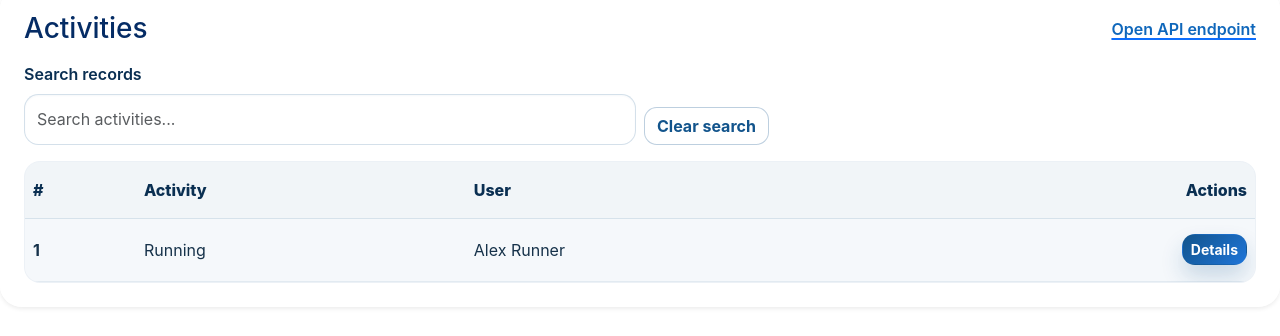
it: DataResourcePage › search only matches visible columns
Expected: the text "Running" is shown, [136,219,466,281]
Type "secret-match" into the search field labelled "Search records". click: (330, 119)
box: [24,94,636,145]
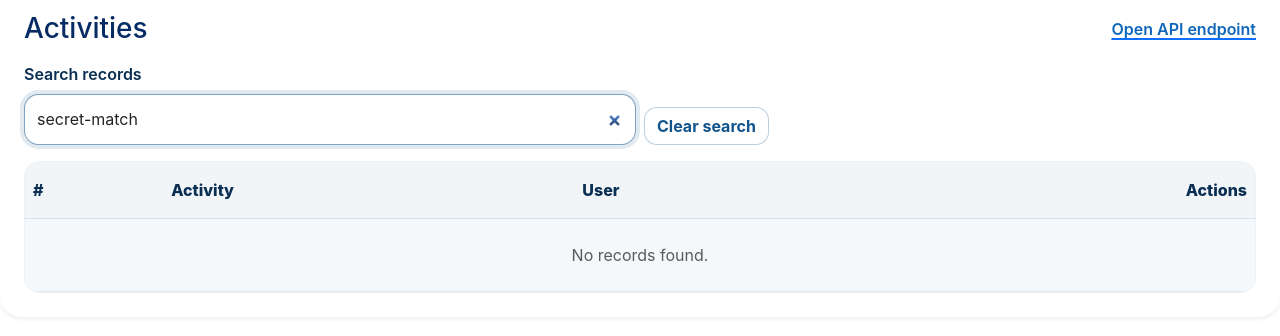
Expected: the text "Running" is gone
Expected: the text "No records found." is shown, [25,219,1255,292]
